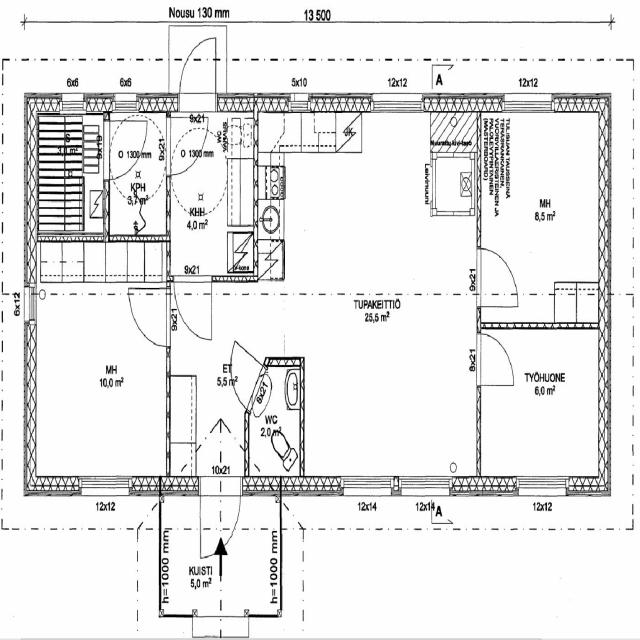door: (129, 279, 212, 345), (178, 35, 218, 107), (172, 276, 214, 344), (128, 284, 170, 348), (476, 327, 516, 389), (478, 242, 518, 299), (217, 490, 242, 548)
window: (78, 472, 132, 499), (514, 473, 569, 499), (340, 473, 395, 499), (399, 472, 452, 498), (371, 93, 426, 116), (504, 94, 555, 116), (23, 284, 37, 325), (287, 95, 312, 114)
zone: (30, 286, 171, 486), (479, 109, 607, 306), (477, 323, 606, 485), (168, 134, 250, 275), (34, 104, 104, 234), (108, 110, 169, 238), (220, 493, 280, 617), (161, 494, 220, 617), (249, 361, 303, 483), (41, 242, 149, 288), (432, 150, 476, 217), (552, 284, 601, 328)
